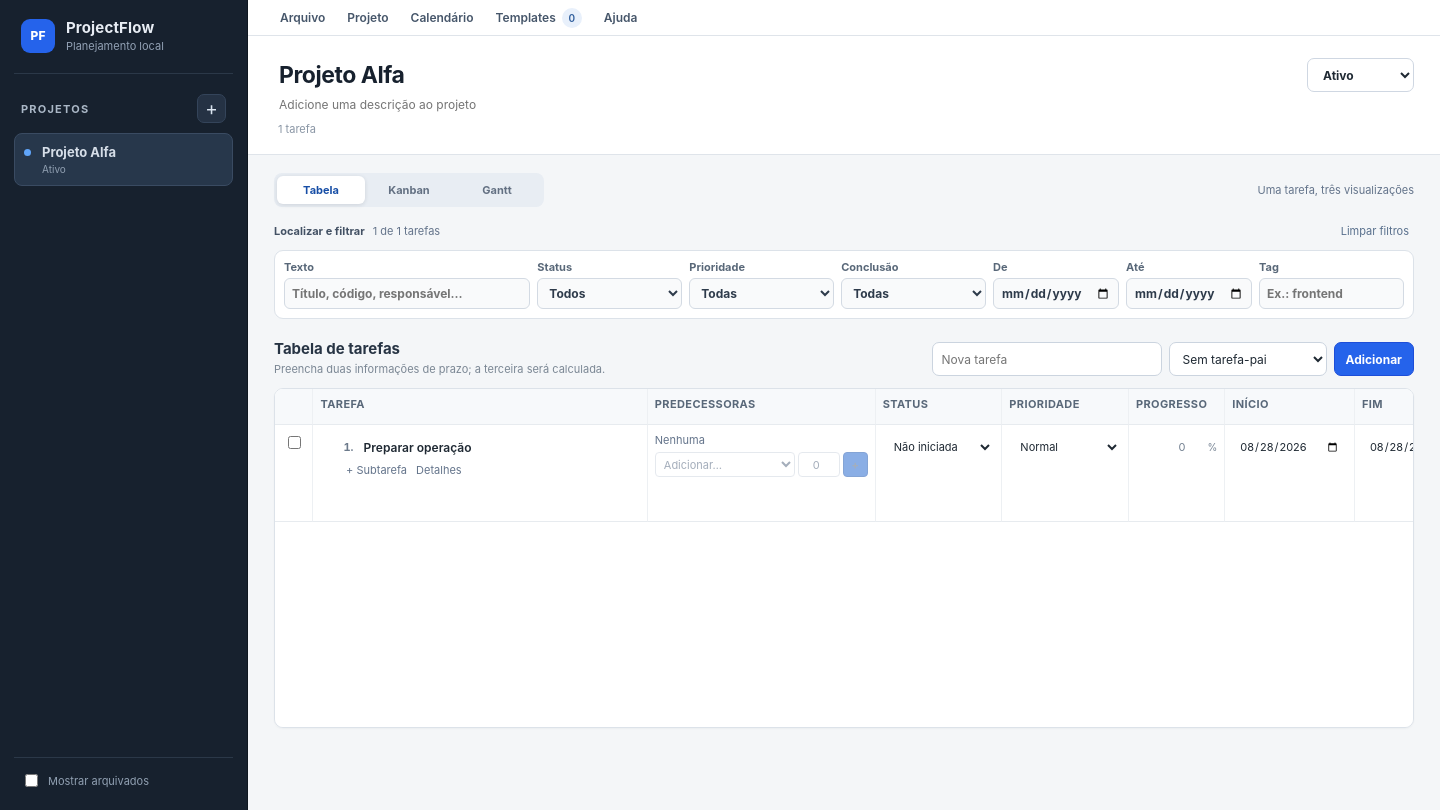
Test: aplicação ProjectFlow › altera status no Kanban e reflete a mesma tarefa na Tabela
Step 1. Click the tab "Kanban" → {"x": 409, "y": 190}, box [365,176,453,204]
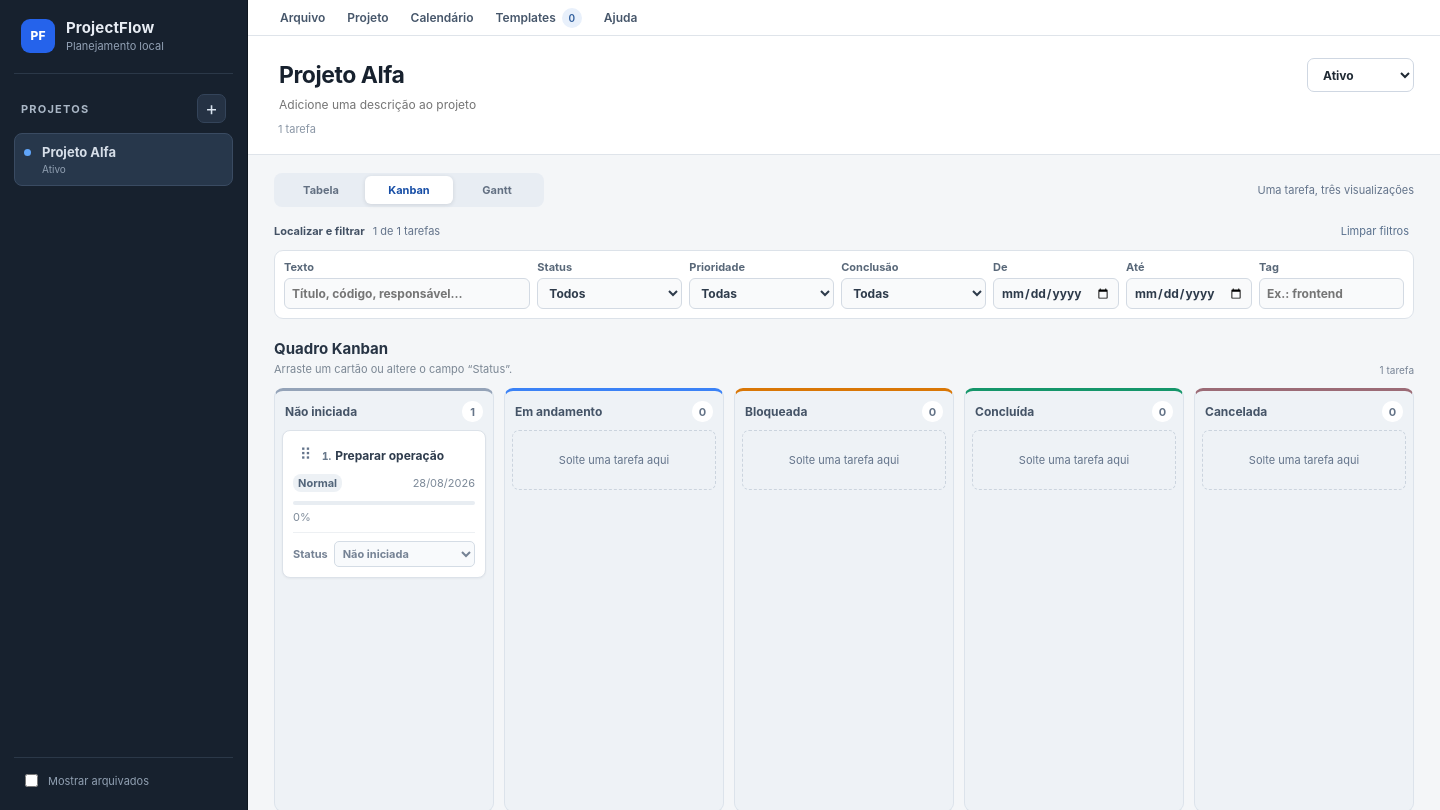
Expected: the heading "Quadro Kanban" is shown, [274,339,388,358]
Expected: the text "28/08/2026" is shown, [413,476,475,490]
Step 2. Select "Em andamento" in the dropdown named "Status de Preparar operação" → {"x": 404, "y": 554}, box [334,541,475,567]
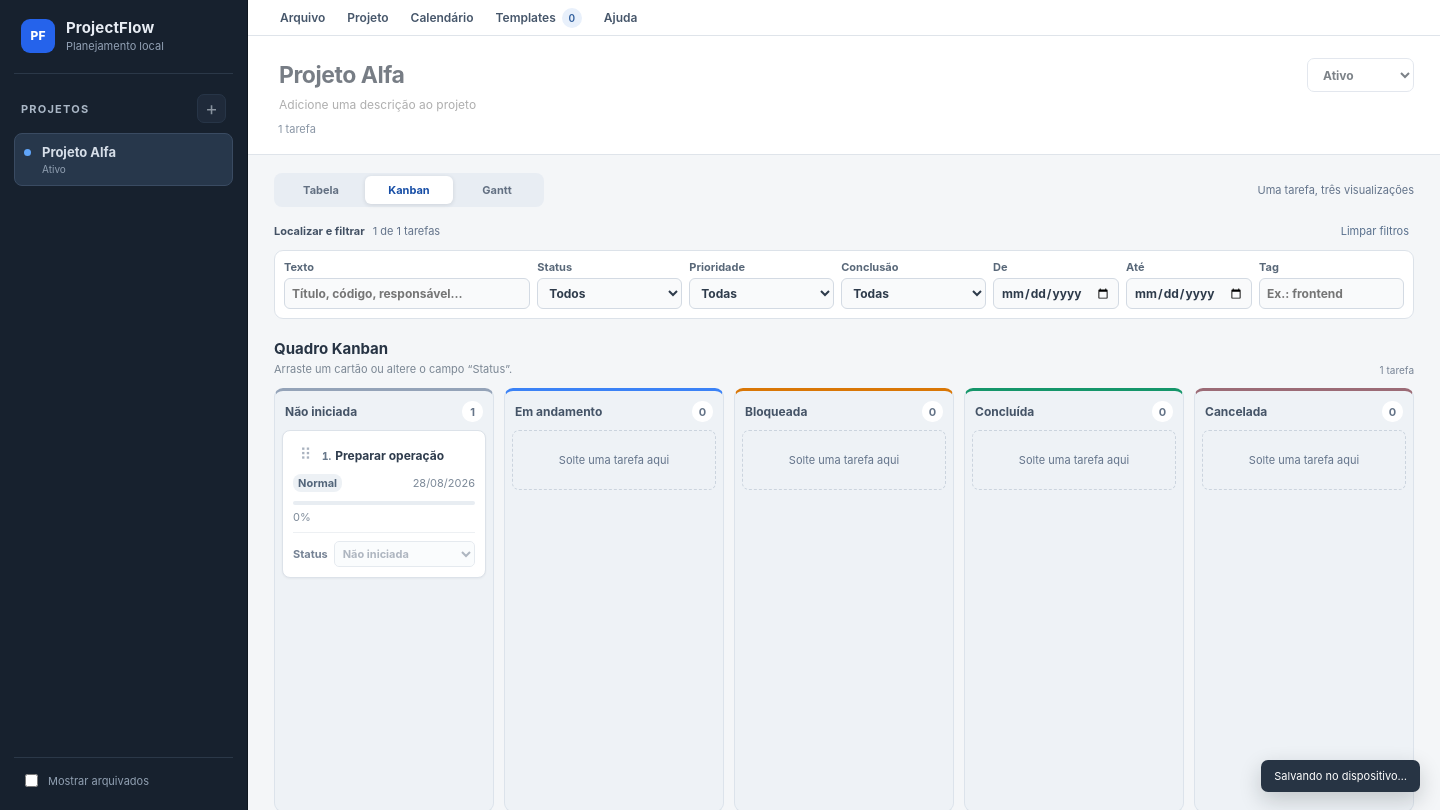
Step 3. Click the tab "Tabela" → {"x": 321, "y": 190}, box [277,176,365,204]
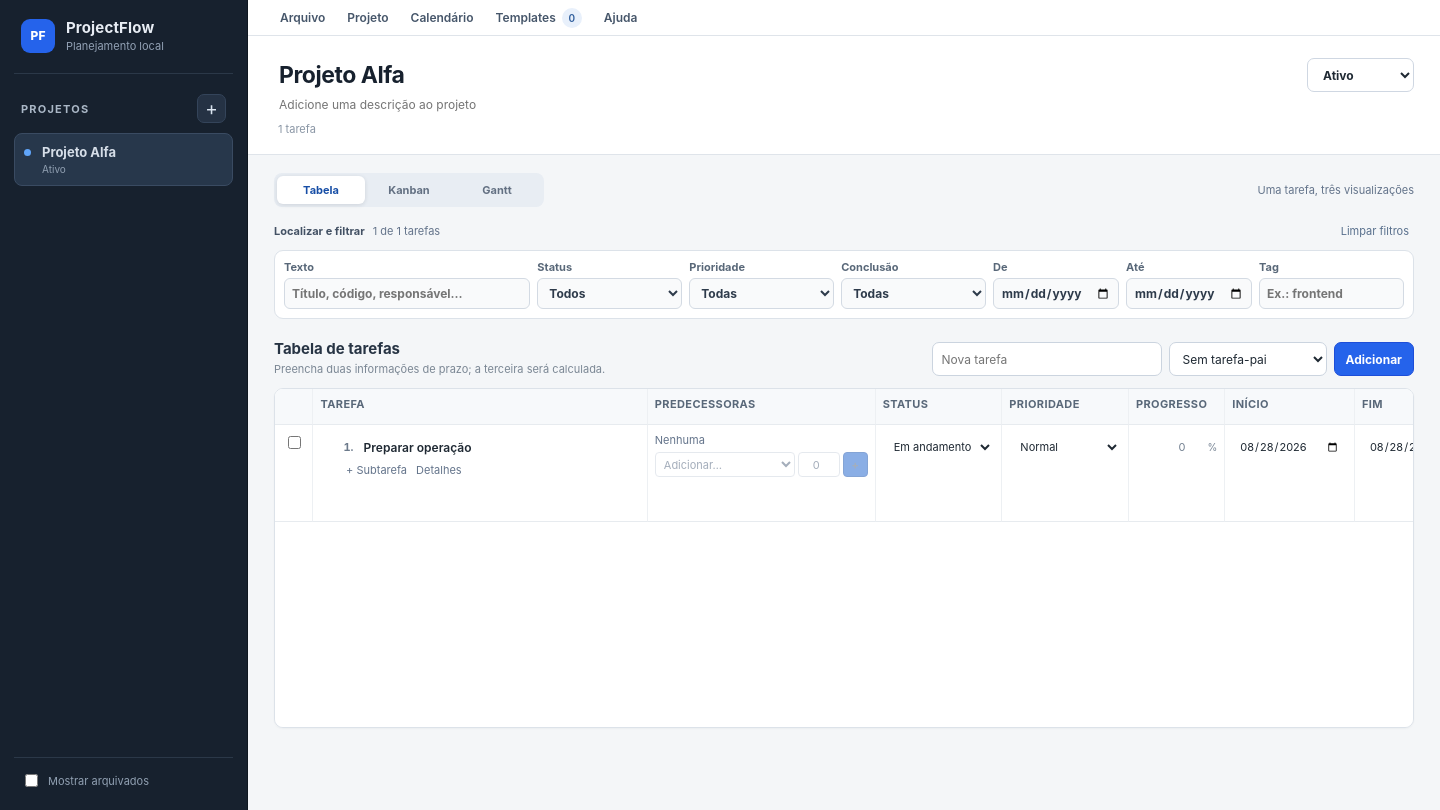
Expected: the dropdown named "Status da tarefa" shows "Em andamento", [883,433,994,461]
